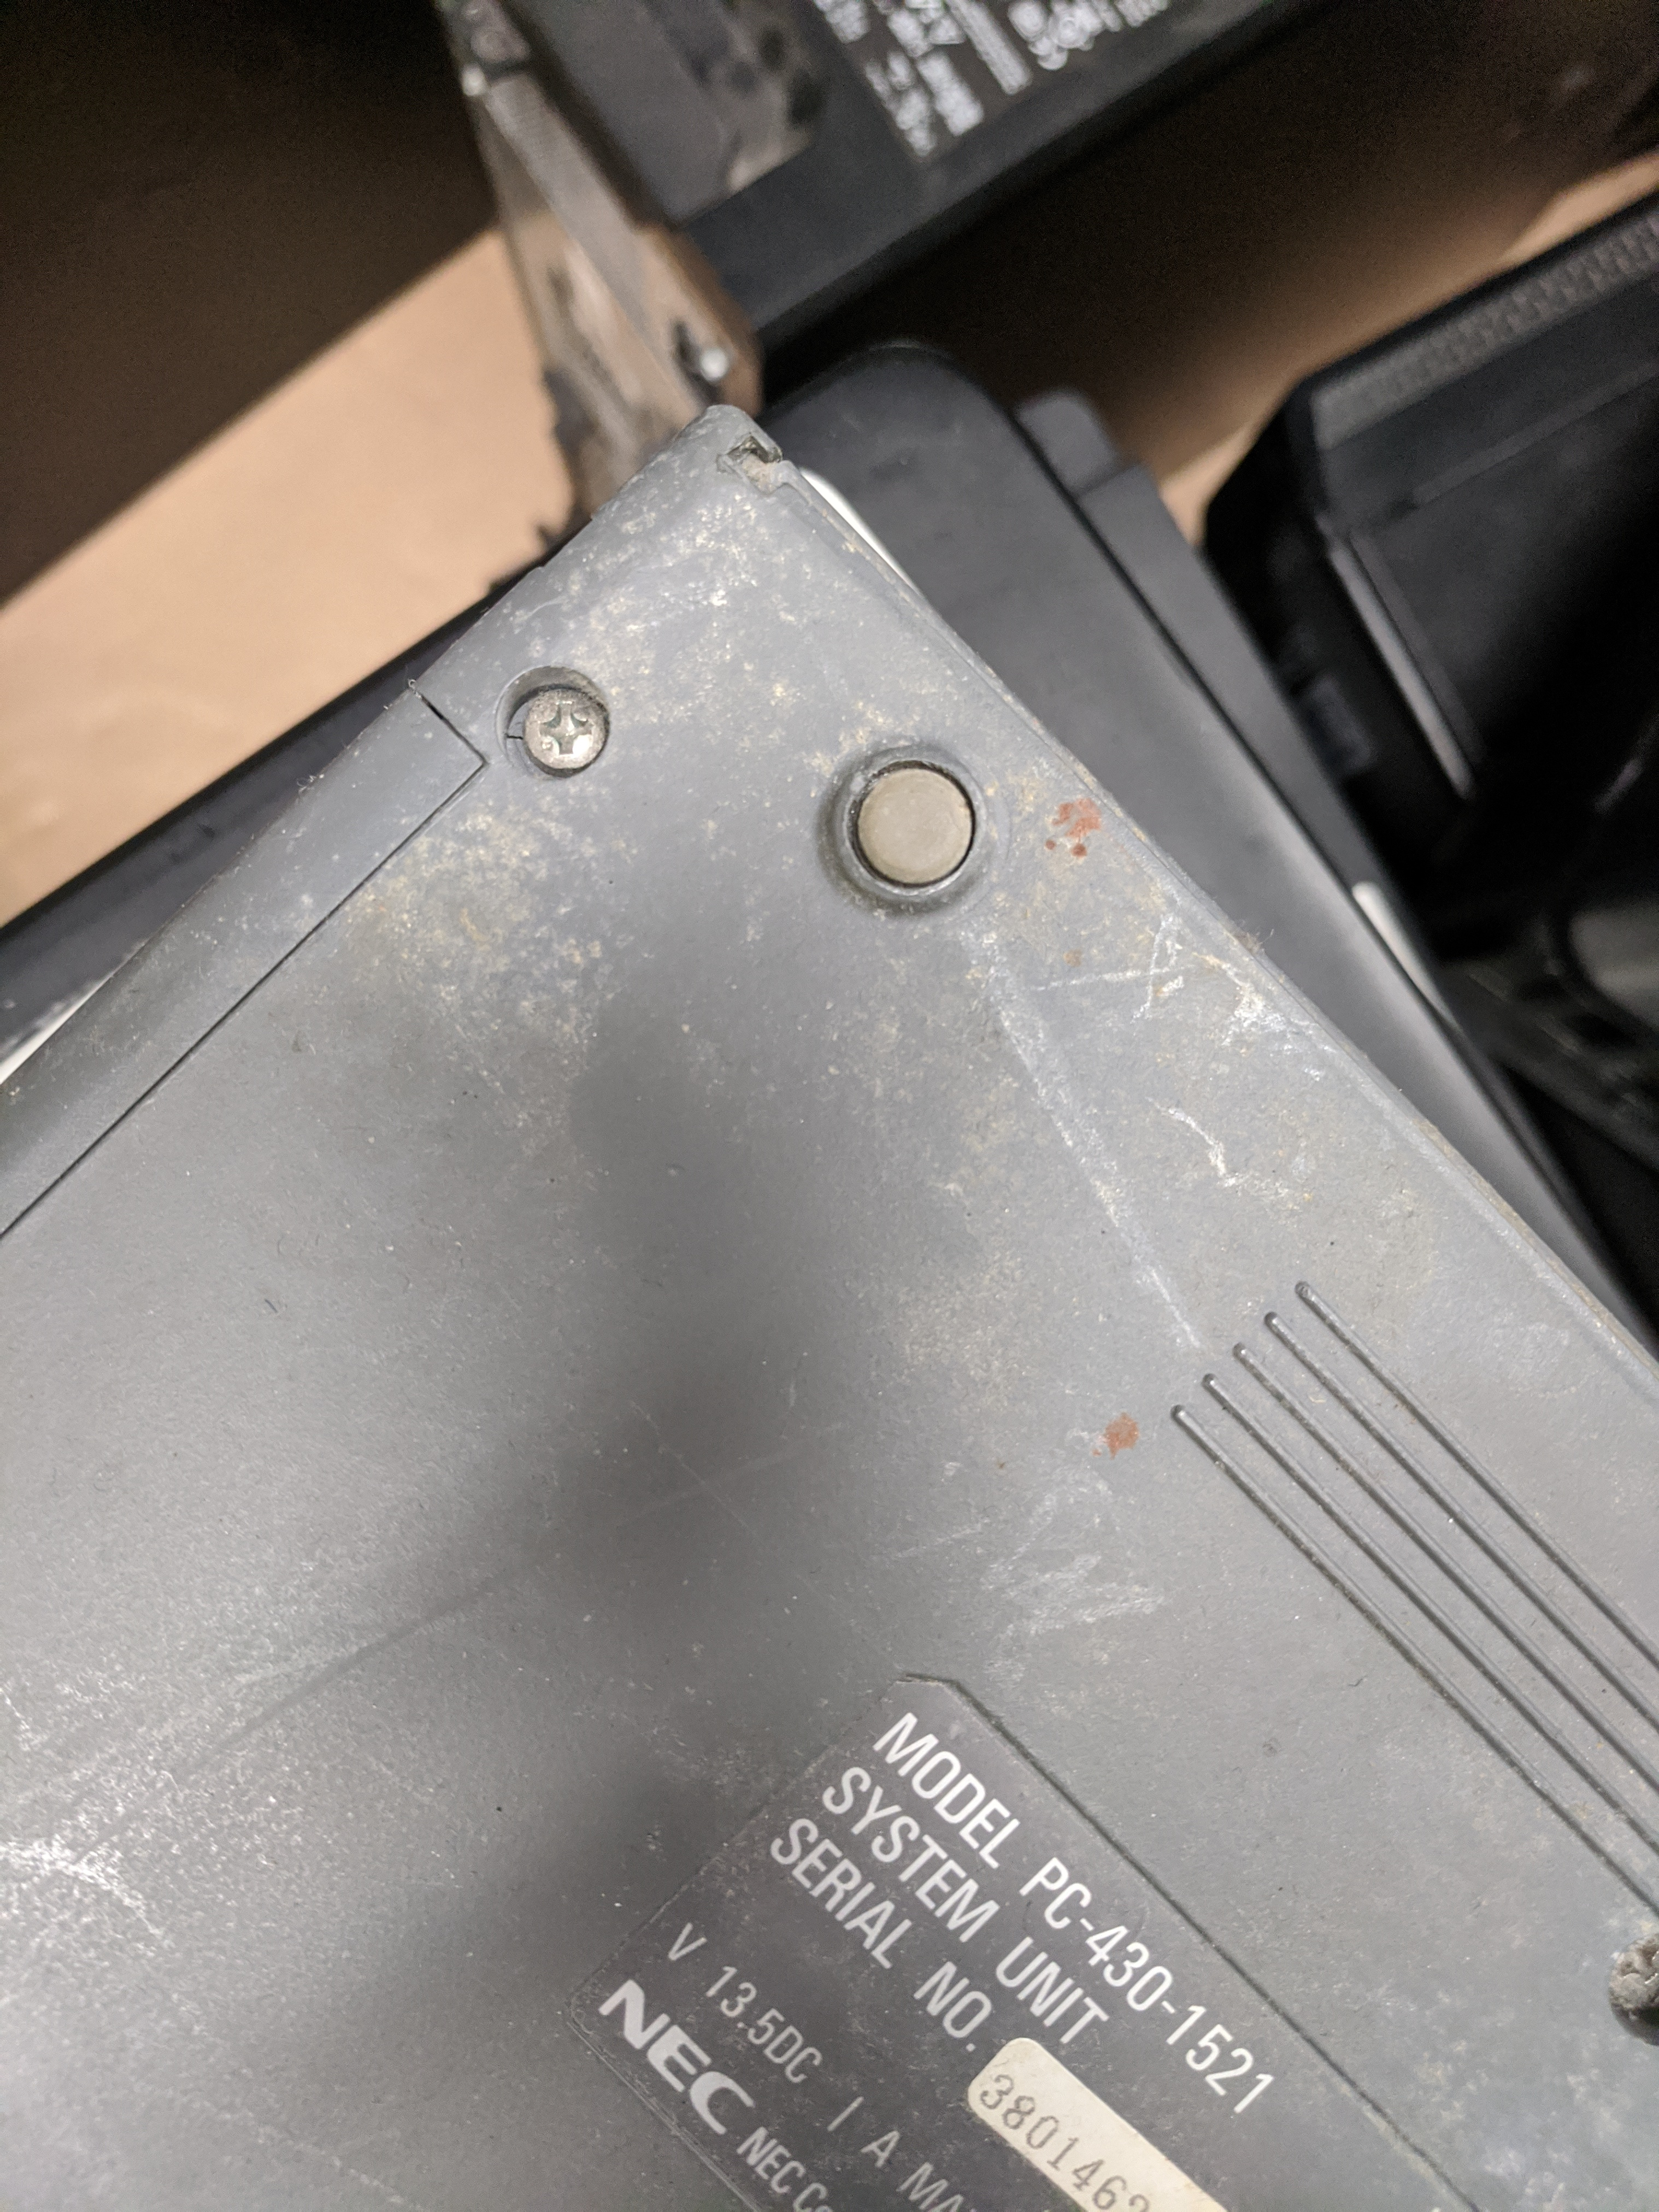cross_recessed_screw: (502, 671, 615, 787), (1612, 1911, 1657, 2047)
